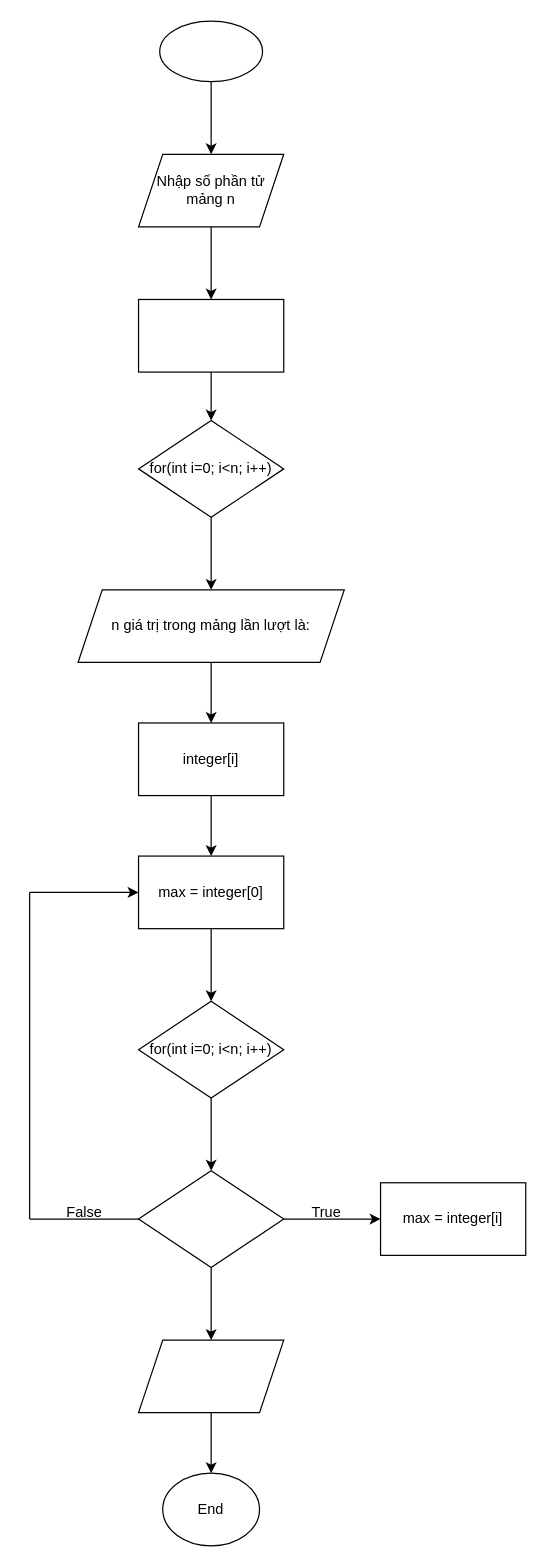
This 547x1567 diagram has some shape labels left out. The centre of each missing label's shape, as x and y in pixels:
"integer[n]" belongs at point (210, 335).
"max < integer[i]" belongs at point (210, 1218).
"Start" belongs at point (211, 51).
"Số lớn nhất trong mảng đó là: max" belongs at point (210, 1376).
